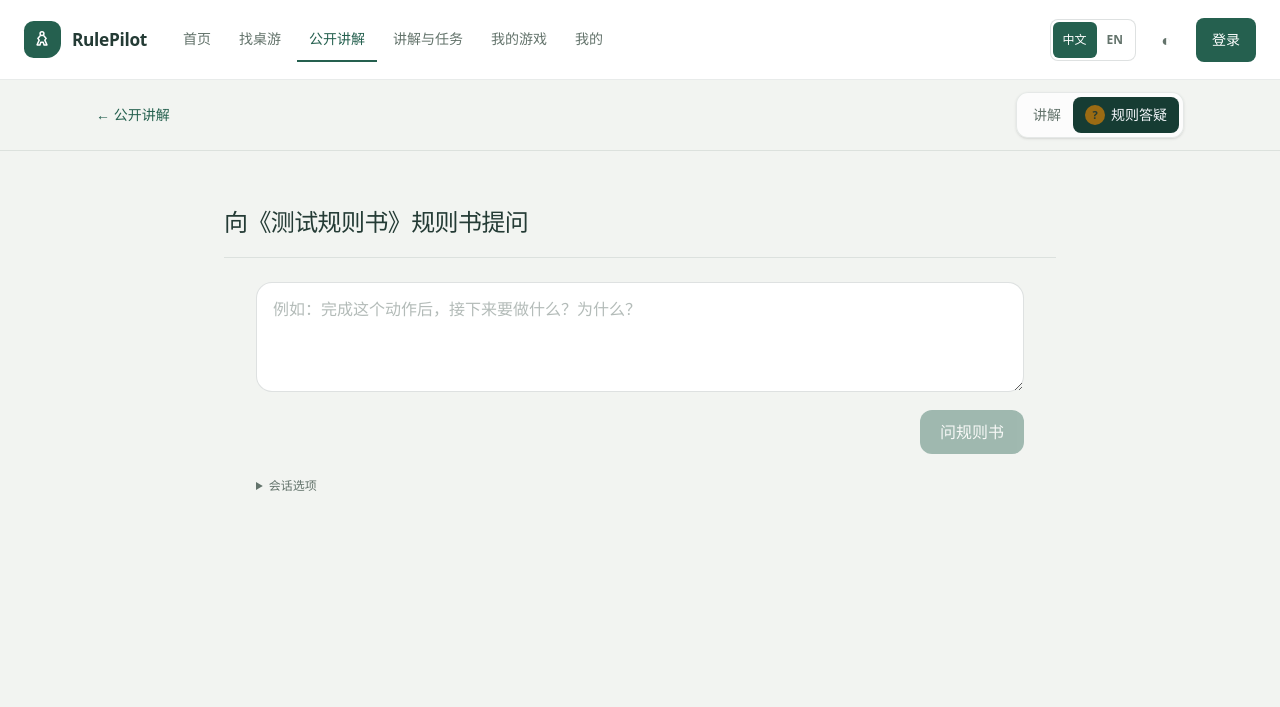
Test: PublicLessonView failure visibility › shows a cited conclusion alongside the clarification needed for the remaining situation
Type "什么时候结算？" into the text box with placeholder "例如：完成这个动作后，接下来要做什么？为什么？" at (640, 337), box [256,282,1024,392]
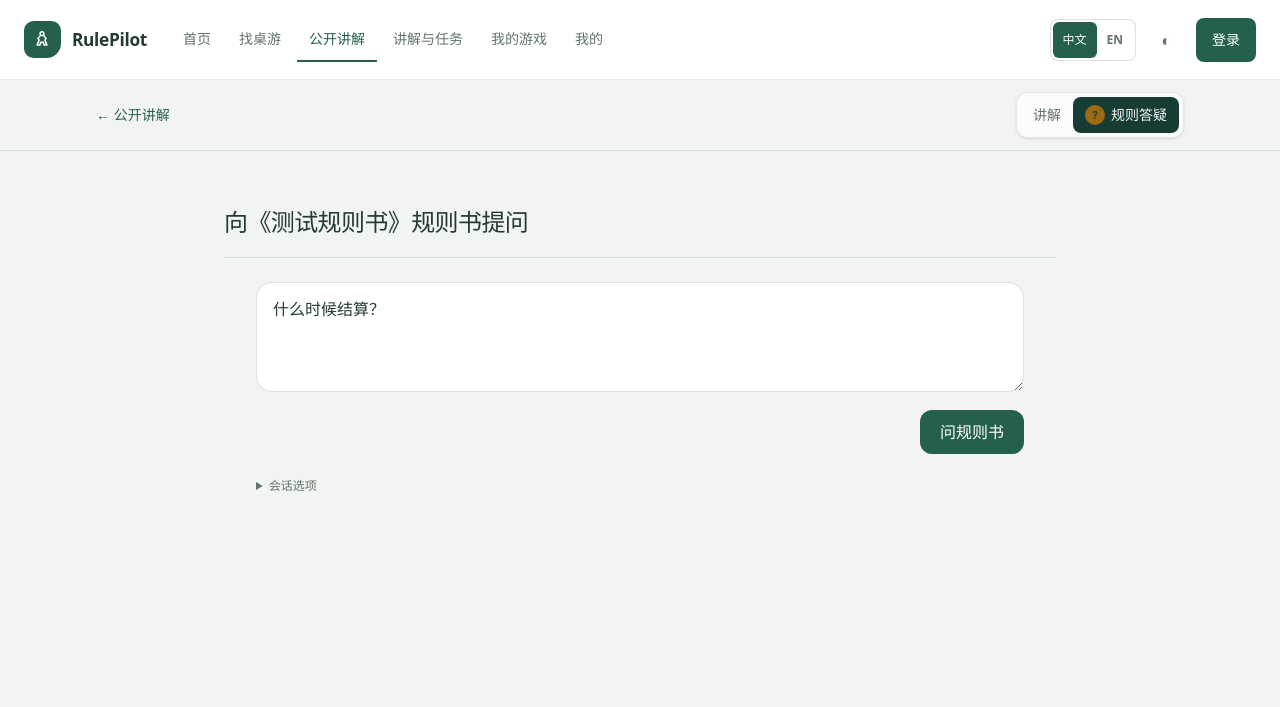
Submit the form, box [256,282,1024,454]
(page scrolled)
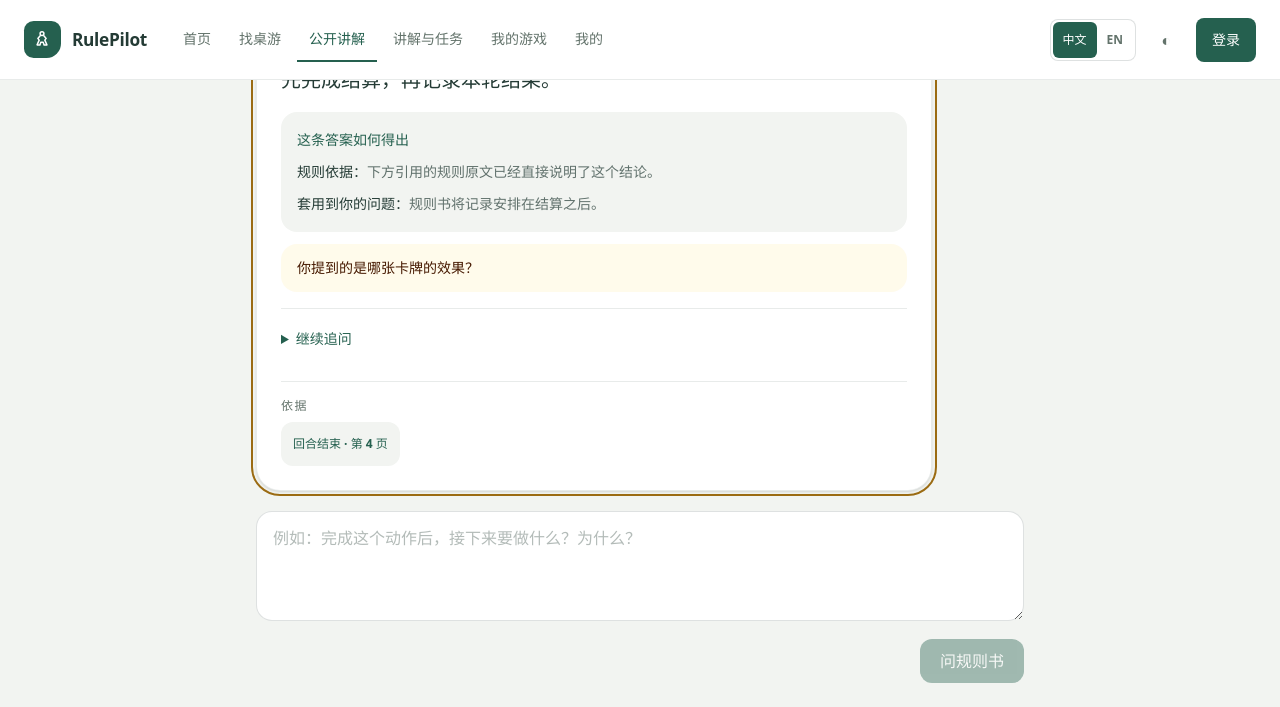
Expected: the text "先完成结算，再记录本轮结果。" is shown, [281,66,561,93]
Expected: the text "你提到的是哪张卡牌的效果？" is shown, [281,244,907,292]
Expected: the text "回合结束" is shown, [281,422,400,466]
